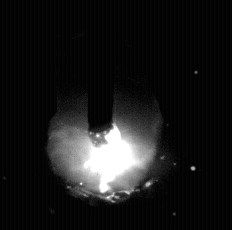arame: (89, 0, 115, 146)
poca: (48, 0, 159, 230)
